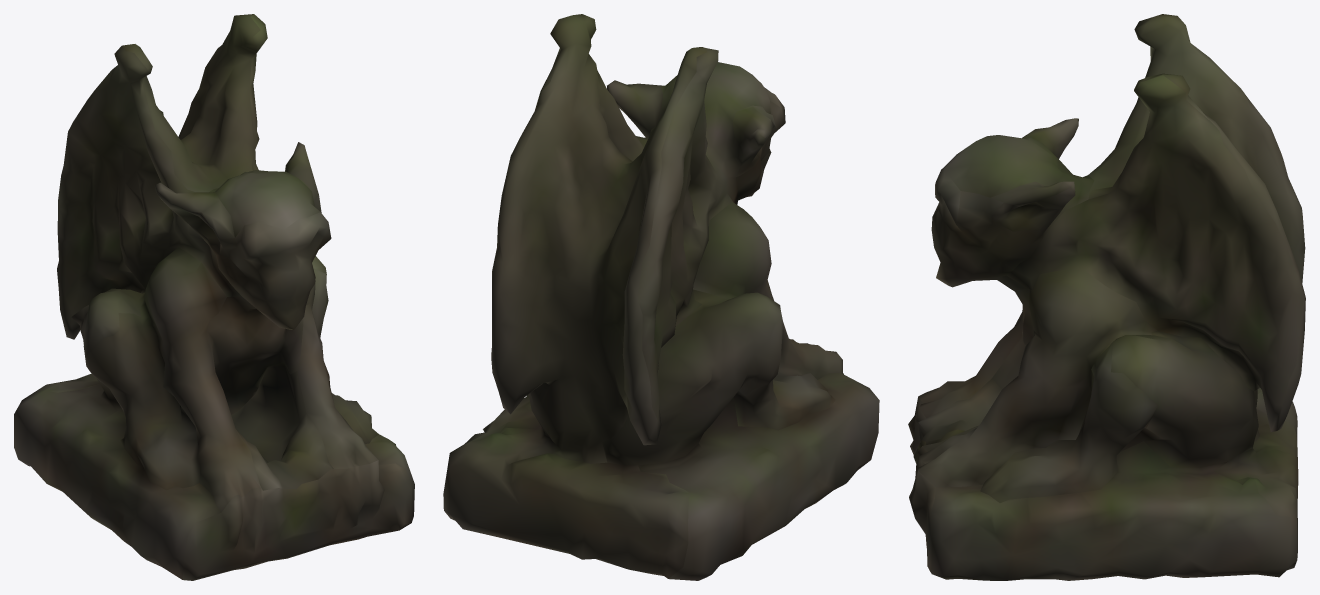
File: Gargoyle.fbx
The picture shows the model from 3 angles, left to right: view 1: azimuth 30°, elevation 25°; view 2: azimuth 150°, elevation 25°; view 3: azimuth 270°, elevation 25°; orthographic projection. The views are drawn at different scales.
Parts seen in each view (by area): view 1: Gargoyle; view 2: Gargoyle; view 3: Gargoyle.
Boxes of the visible parts, box(x1,y1,x2,y2) form: Gargoyle: box(14, 14, 414, 580); Gargoyle: box(443, 14, 879, 580); Gargoyle: box(908, 14, 1305, 580).
Size of what is drawn, in the model's own units: 57.01 by 98.8 by 74.51.
